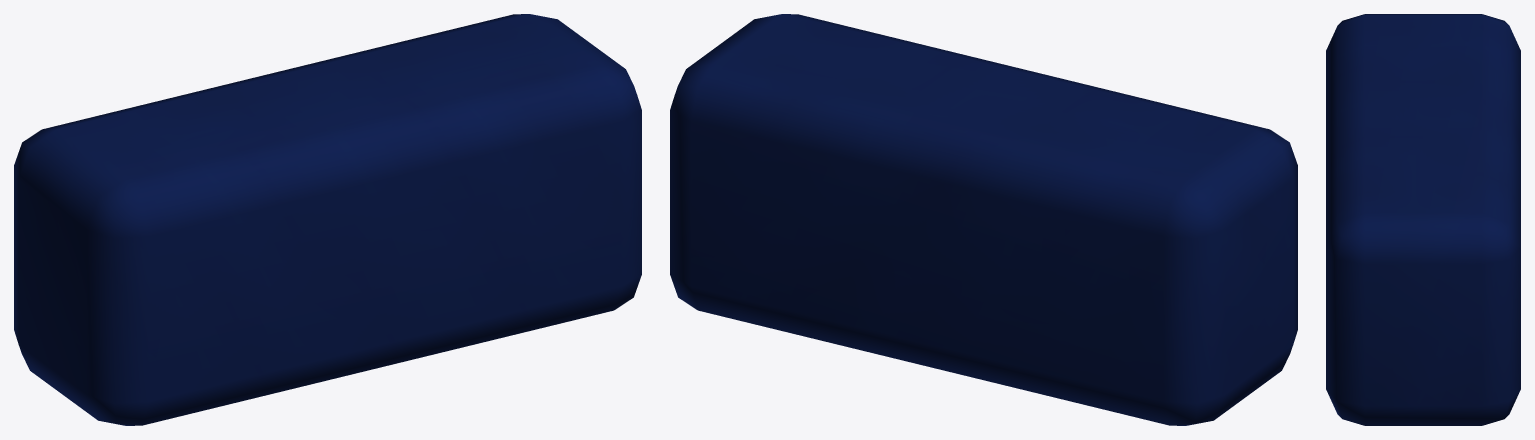
The picture shows the model from 3 angles, left to right: view 1: azimuth 30°, elevation 25°; view 2: azimuth 150°, elevation 25°; view 3: azimuth 270°, elevation 25°; orthographic projection. The views are drawn at different scales.
Size of the model in its own units: 0.14 by 0.06 by 0.05.
1 material, 1 textured.
